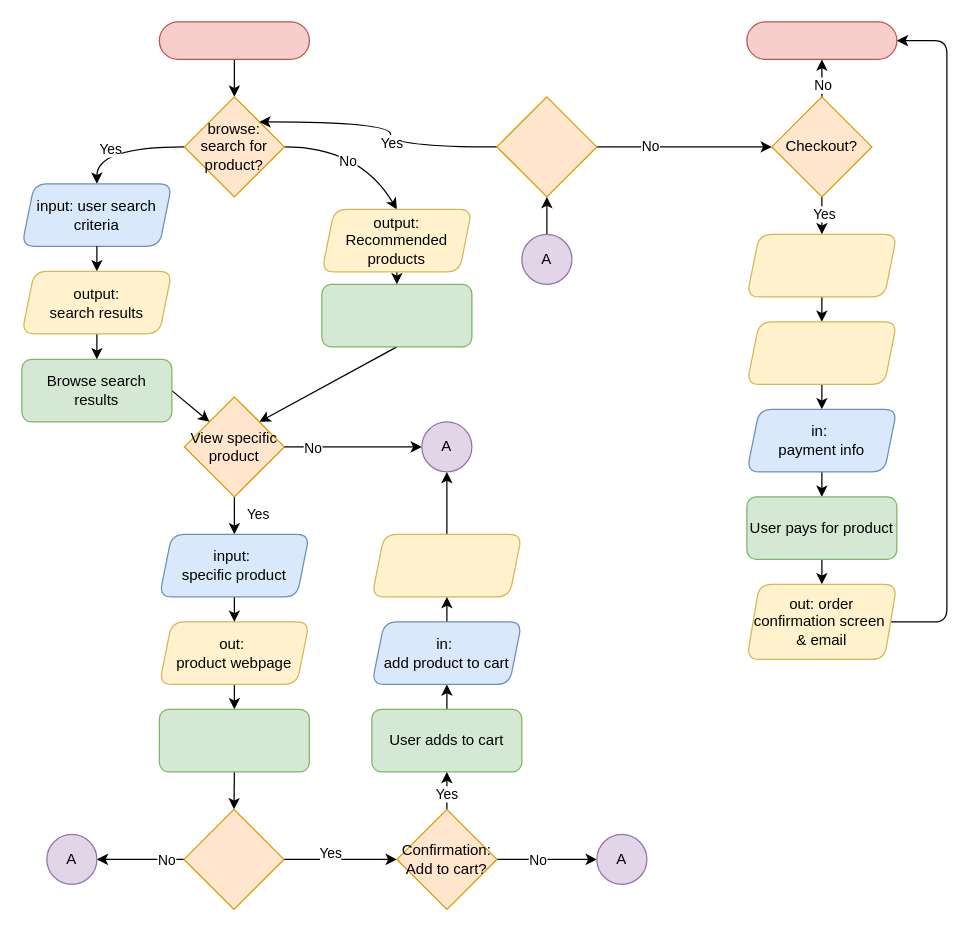
Some shapes in this 979 by 931 pixel diagram are drawn without their labels. The shapes that lost their labels are listed below. From the top down, each one's centre as x and y in pixels, then its label:
At point 233,40: "User enters website".
At point 821,40: "User exits website".
At point 546,146: "Continue shopping?".
At point 821,265: "out: View Cart Page".
At point 396,315: "Browse home page".
At point 821,352: "out: Payment Page".
At point 446,565: "out: product added to cart".
At point 233,740: "Inspect product page".
At point 233,858: "Add product to cart?".
